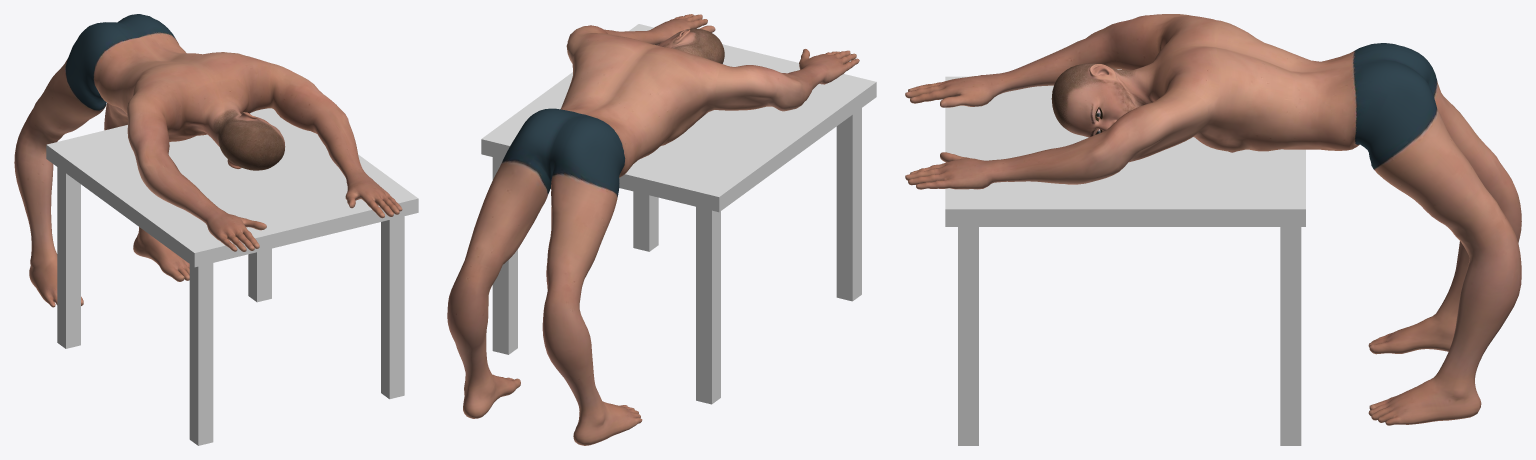
The model's file is neutral_table_supported.glb.
The picture shows the model from 3 angles, left to right: view 1: azimuth 30°, elevation 25°; view 2: azimuth 150°, elevation 25°; view 3: azimuth 270°, elevation 25°; orthographic projection. The views are drawn at different scales.
Parts seen in each view (by area): view 1: Body, Neutral_Table_Top, Neutral_Table_Leg, Neutral_Table_Leg.002, Neutral_Table_Leg.001, Neutral_Table_Leg.003; view 2: Body, Neutral_Table_Top, Neutral_Table_Leg.001, Neutral_Table_Leg, Neutral_Table_Leg.003, Neutral_Table_Leg.002; view 3: Body, Neutral_Table_Top, Neutral_Table_Leg.003, Neutral_Table_Leg.002.
Part boxes in pixels (x1,y1,x2,y2): Body: (14,14,402,307); Neutral_Table_Top: (46,108,418,267); Neutral_Table_Leg: (189,263,213,445); Neutral_Table_Leg.002: (381,216,404,399); Neutral_Table_Leg.001: (57,167,80,348); Neutral_Table_Leg.003: (248,248,271,302); Body: (447,14,859,445); Neutral_Table_Top: (481,24,876,212); Neutral_Table_Leg.001: (696,207,720,404); Neutral_Table_Leg: (836,108,861,301); Neutral_Table_Leg.003: (492,157,517,354); Neutral_Table_Leg.002: (633,191,658,251); Body: (905,14,1521,425); Neutral_Table_Top: (945,76,1305,226); Neutral_Table_Leg.003: (1280,227,1301,445); Neutral_Table_Leg.002: (958,227,978,445).
Bounding box in the file's own units: 0.82 × 0.9874 × 1.61.
Materials: 3 (2 with a texture image).
